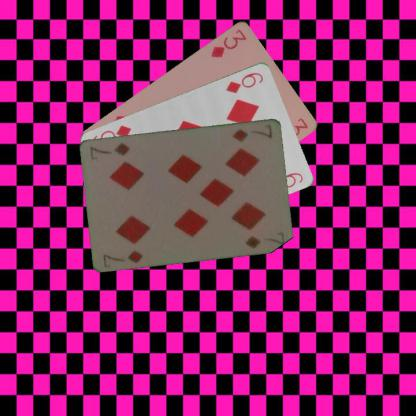3d: (208, 26, 248, 59)
6d: (223, 70, 265, 96)
7d: (230, 121, 274, 143), (100, 247, 144, 268)
